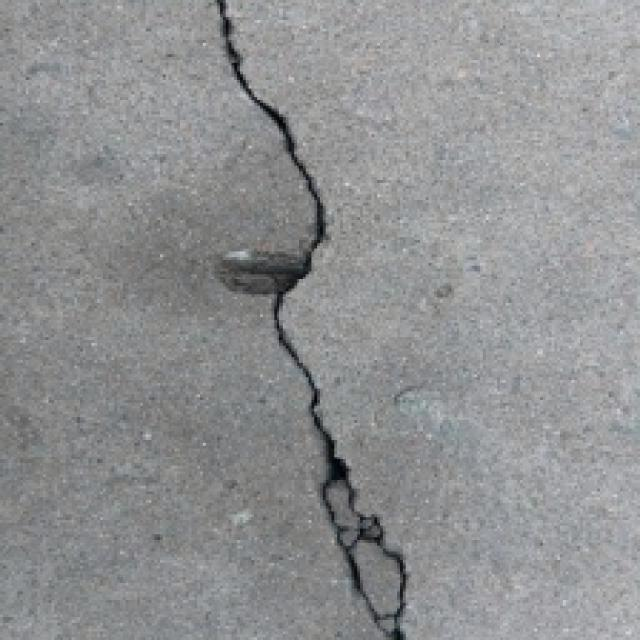SurfaceCrack: (180, 0, 434, 640)
